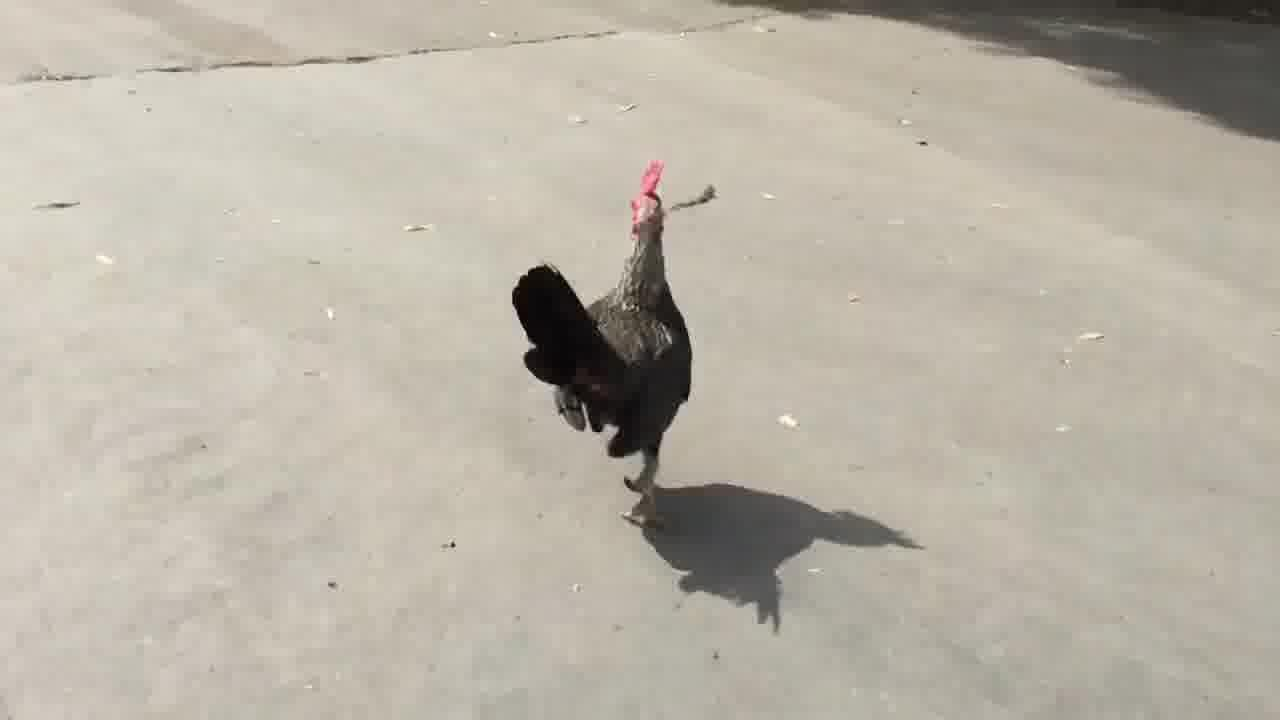Normal: (482, 150, 740, 528)
